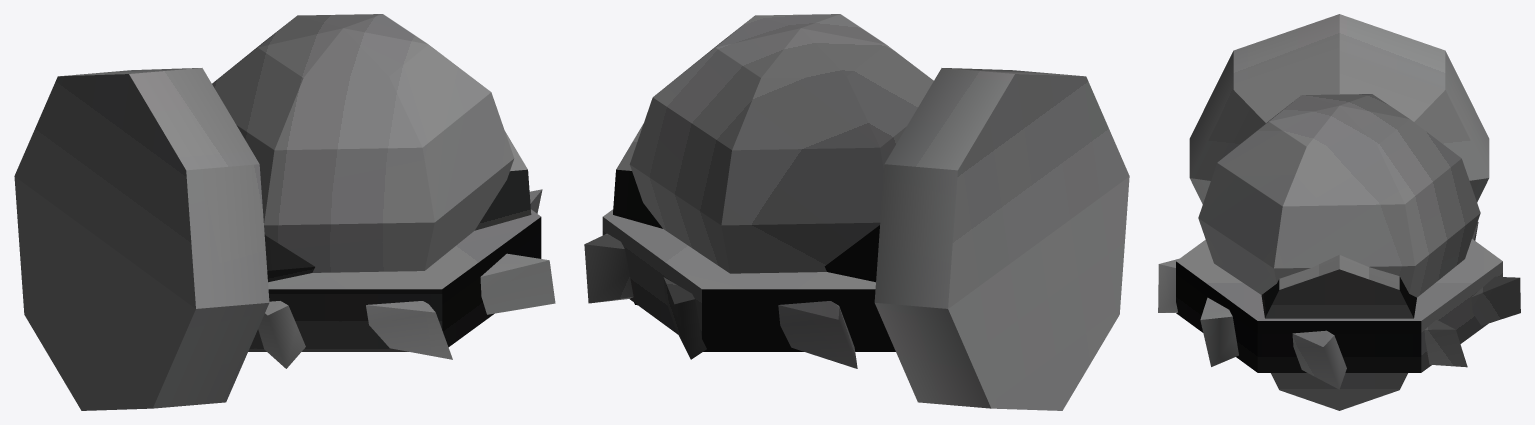
Rendered from SM_Details.fbx.
3 views of the same model, side by side, from view 1: azimuth 30°, elevation 25°; view 2: azimuth 150°, elevation 25°; view 3: azimuth 270°, elevation 25° (orthographic). The views are drawn at different scales.
Parts seen in each view (by area): view 1: bolt, shar, gaika, zvezda; view 2: bolt, shar, gaika, zvezda; view 3: shar, bolt, gaika, zvezda.
Boxes of the visible parts, <box> form: bolt: <box>14,68,531,410</box>; shar: <box>212,14,514,272</box>; gaika: <box>248,209,541,351</box>; zvezda: <box>258,189,555,368</box>; bolt: <box>613,68,1129,410</box>; shar: <box>629,14,933,273</box>; gaika: <box>602,209,895,351</box>; zvezda: <box>584,233,857,368</box>; shar: <box>1198,94,1480,297</box>; bolt: <box>1189,14,1489,410</box>; gaika: <box>1176,239,1502,372</box>; zvezda: <box>1158,222,1520,389</box>.
Size of the model in its own units: 21.95 by 15.65 by 18.49.
Materials: 1 (1 with a texture image).
